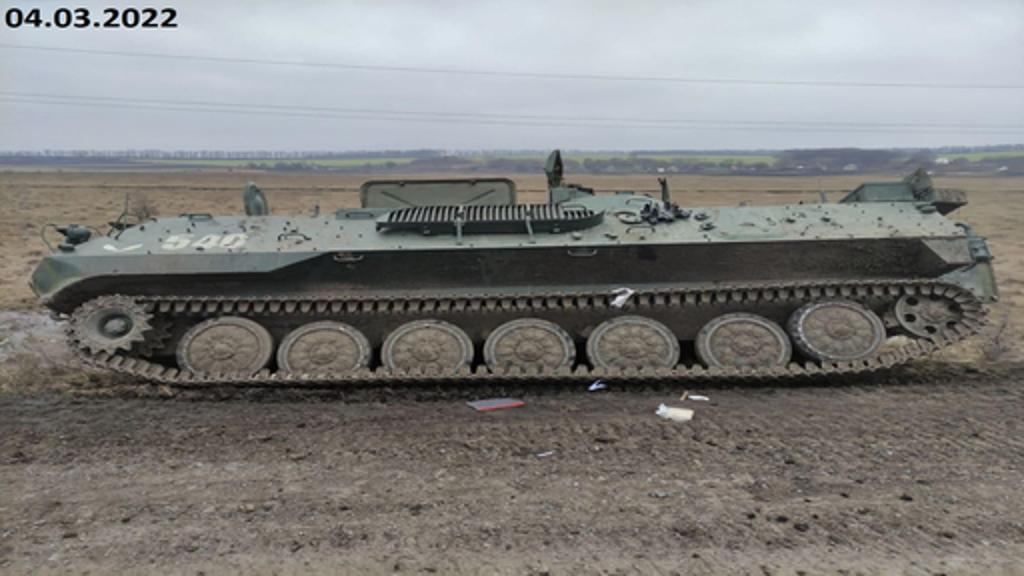APC-IFV: (28, 132, 992, 394)
